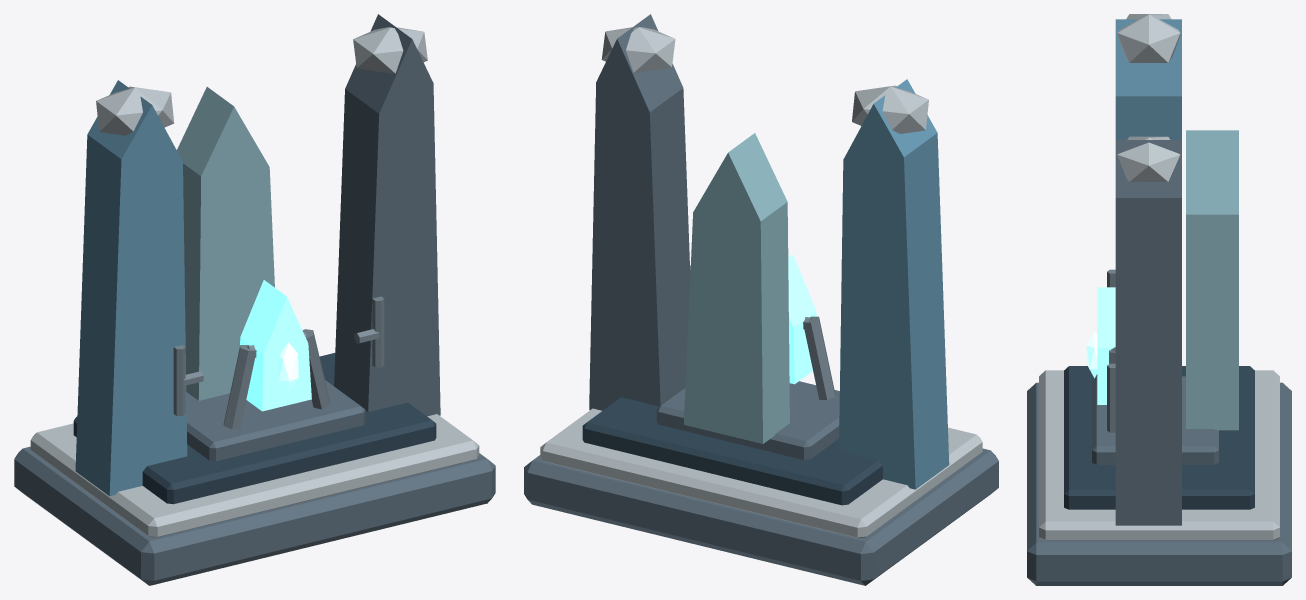
File: wastes_frost_shrine.glb
3 views of the same model, side by side, from view 1: azimuth 30°, elevation 25°; view 2: azimuth 150°, elevation 25°; view 3: azimuth 270°, elevation 25° (orthographic). The views are drawn at different scales.
Parts seen in each view (by area): view 1: wastes_frost_shrine; view 2: wastes_frost_shrine; view 3: wastes_frost_shrine.
Part boxes in pixels (bbox=[...]): wastes_frost_shrine: bbox=[14, 14, 495, 585]; wastes_frost_shrine: bbox=[524, 14, 998, 585]; wastes_frost_shrine: bbox=[1027, 14, 1291, 585].
Size of the model in its own units: 1.5 by 1.8 by 1.
